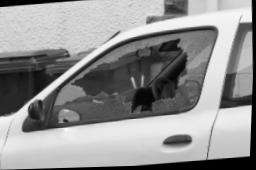Door: (64, 30, 233, 168)
